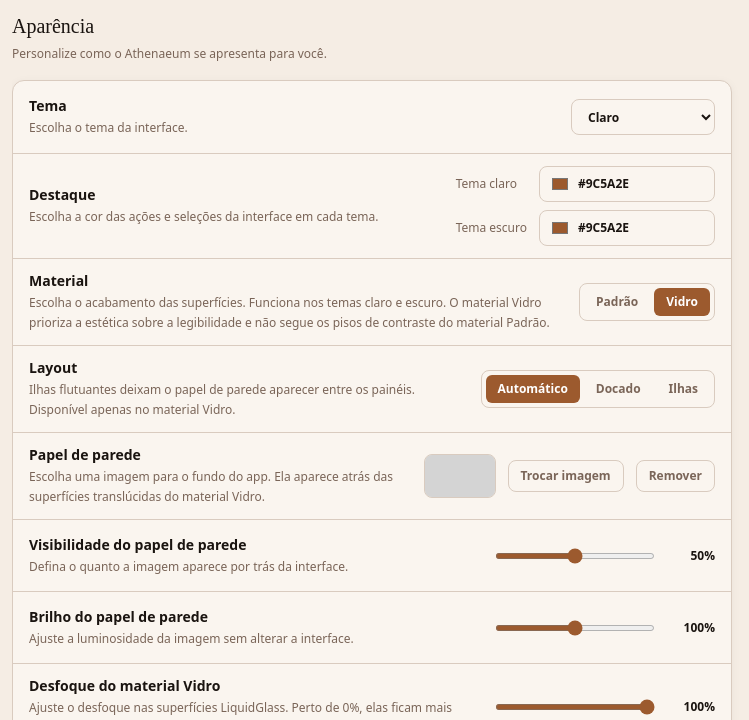
Test: controle de papel de parede em Aparencia › remover apaga o arquivo primeiro e so entao limpa a chave
Click the button "Remover" at (675, 476), box [636,460,715,492]
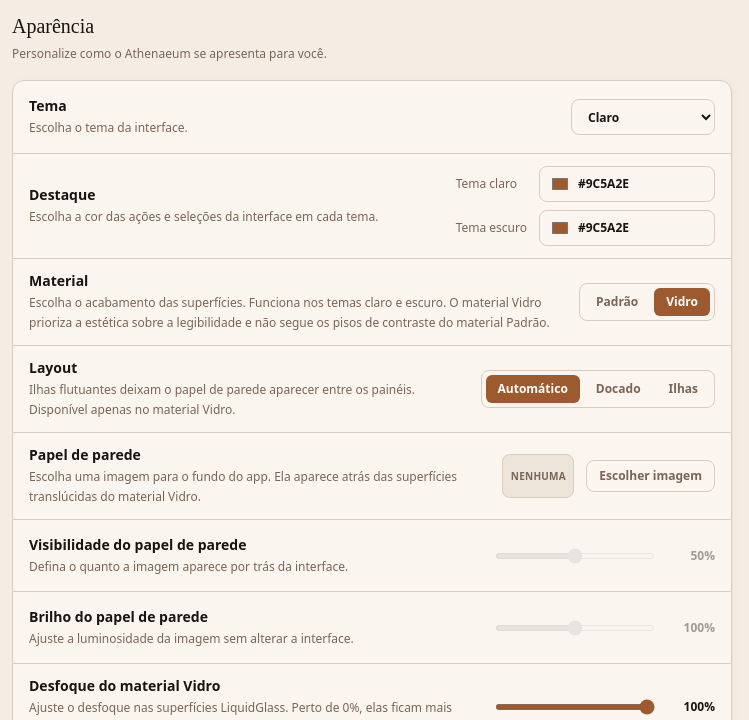
Now the slider named "Visibilidade do papel de parede" is disabled, box [495,552,655,558]
Now the slider named "Brilho do papel de parede" is disabled, box [495,624,655,630]
